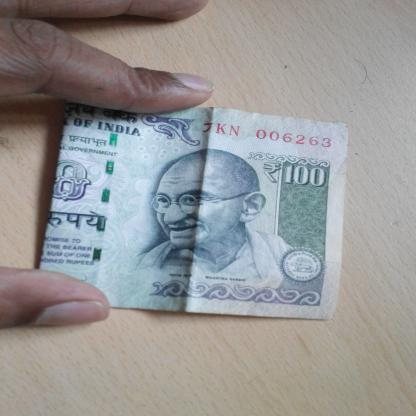Old100Front: (39, 106, 348, 321)
